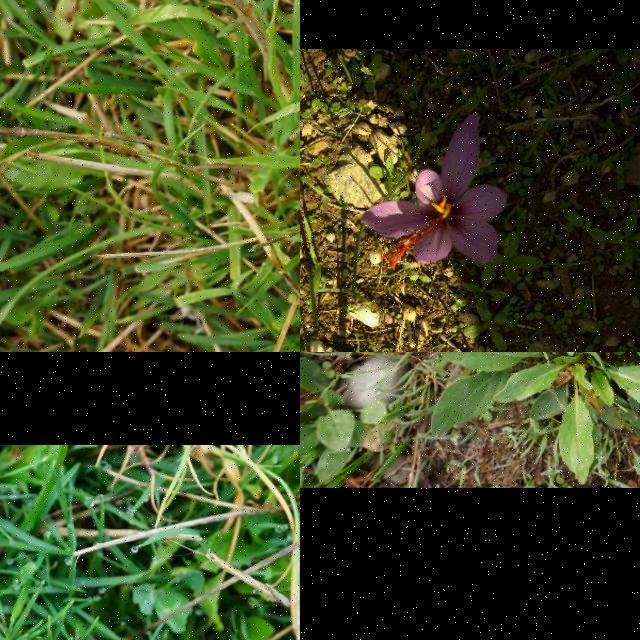flower: (360, 112, 510, 268)
